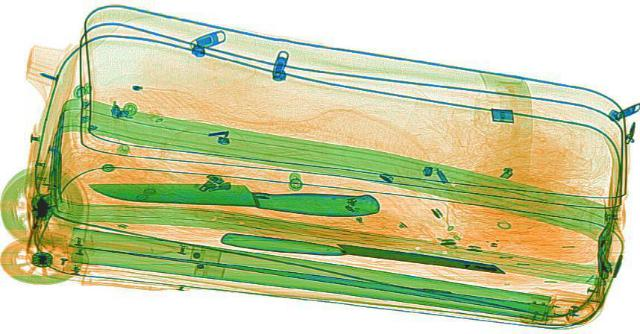Knife: (85, 173, 385, 216), (215, 229, 511, 272)
